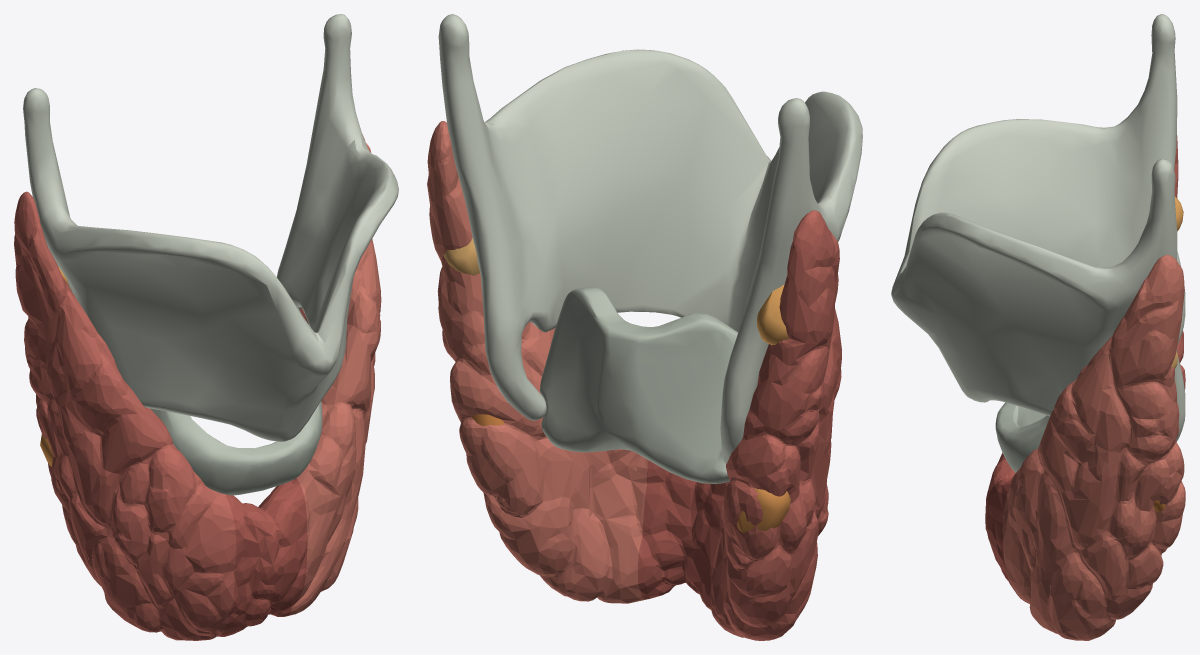
File: parathyroid.glb
3 views of the same model, side by side, from view 1: azimuth 30°, elevation 25°; view 2: azimuth 150°, elevation 25°; view 3: azimuth 270°, elevation 25° (orthographic). The views are drawn at different scales.
Parts seen in each view (by area): view 1: thyroid-cartilage, right-lobe, left-lobe, isthmus, cricoid-cartilage; view 2: thyroid-cartilage, left-lobe, right-lobe, cricoid-cartilage, isthmus, right-inferior-parathyroid, right-superior-parathyroid, left-superior-parathyroid; view 3: thyroid-cartilage, left-lobe, cricoid-cartilage, isthmus, right-lobe.
Boxes of the visible parts, x1=… form: thyroid-cartilage: x1=23, y1=14, x2=398, y2=441; right-lobe: x1=14, y1=191, x2=236, y2=640; left-lobe: x1=287, y1=134, x2=381, y2=616; isthmus: x1=217, y1=478, x2=307, y2=636; cricoid-cartilage: x1=150, y1=307, x2=322, y2=495; thyroid-cartilage: x1=438, y1=14, x2=862, y2=463; left-lobe: x1=427, y1=121, x2=661, y2=603; right-lobe: x1=710, y1=210, x2=841, y2=640; cricoid-cartilage: x1=539, y1=287, x2=737, y2=483; isthmus: x1=637, y1=460, x2=726, y2=619; right-inferior-parathyroid: x1=737, y1=488, x2=790, y2=532; right-superior-parathyroid: x1=757, y1=284, x2=788, y2=344; left-superior-parathyroid: x1=442, y1=238, x2=479, y2=275; thyroid-cartilage: x1=891, y1=14, x2=1185, y2=441; left-lobe: x1=1002, y1=254, x2=1185, y2=640; cricoid-cartilage: x1=995, y1=402, x2=1108, y2=472; isthmus: x1=985, y1=454, x2=1028, y2=603; right-lobe: x1=1001, y1=135, x2=1185, y2=455.
Size of the model in its own units: 1.03 by 1.52 by 0.7745.
